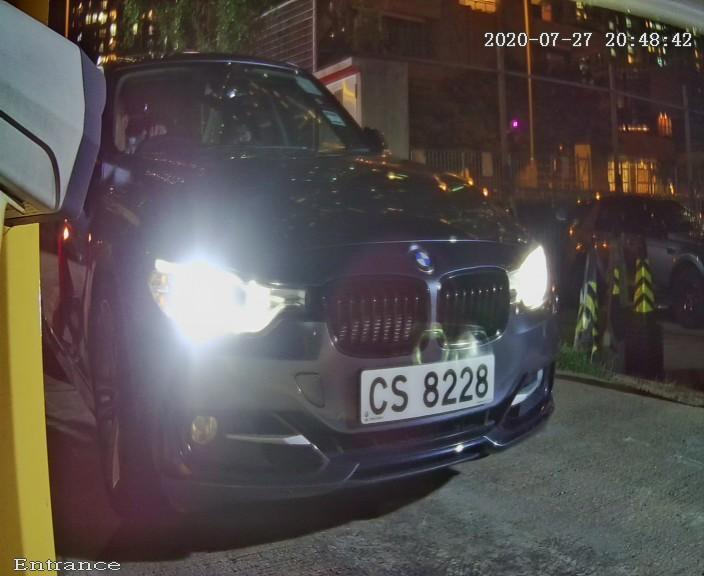privatecar: (76, 11, 585, 546)
